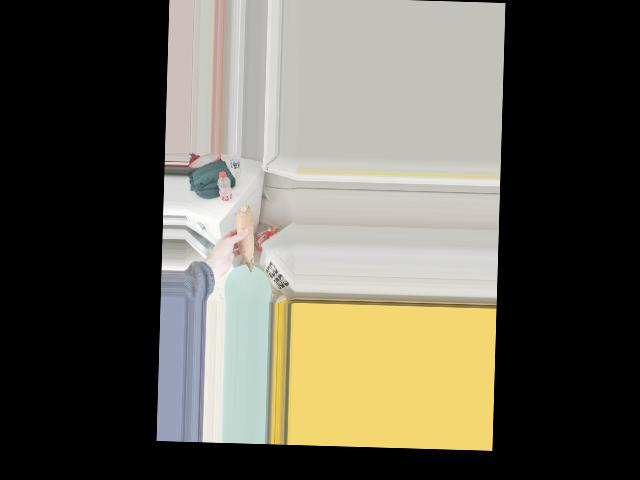sweet_potato: (233, 205, 254, 269)
